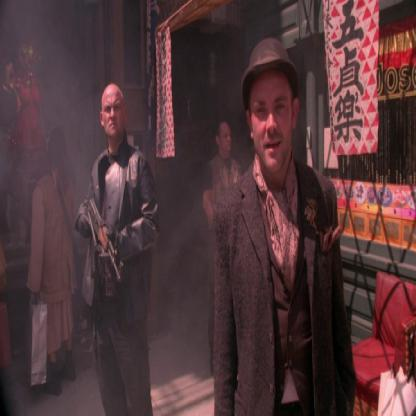Gun: (84, 193, 123, 287)
